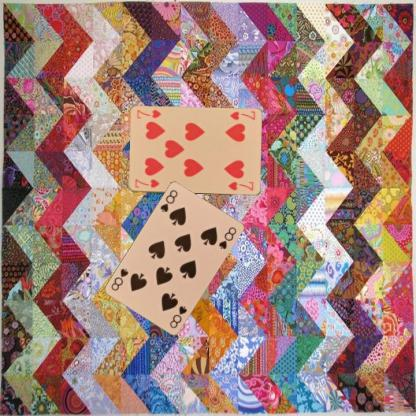7h: (132, 176, 160, 189), (227, 109, 256, 121)
8s: (167, 303, 188, 330), (158, 187, 179, 214)
